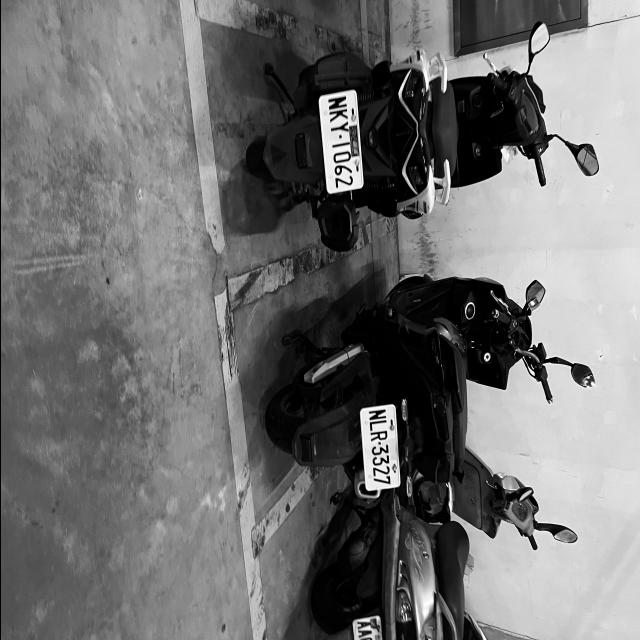-: (338, 132, 342, 140), (376, 442, 381, 446)
0: (331, 149, 351, 164)
1: (331, 141, 350, 150)
2: (333, 175, 354, 190), (370, 466, 390, 476)
3: (372, 455, 390, 467), (371, 445, 388, 456)
6: (333, 164, 353, 177)
7: (372, 475, 390, 487)
A: (357, 628, 372, 638), (355, 621, 371, 630)
K: (329, 110, 347, 122)
L: (368, 419, 386, 432)
N: (328, 94, 347, 110), (368, 408, 386, 421)
R: (369, 431, 386, 442)
Y: (329, 121, 349, 134)
plate: (326, 92, 354, 195), (365, 407, 394, 491)
